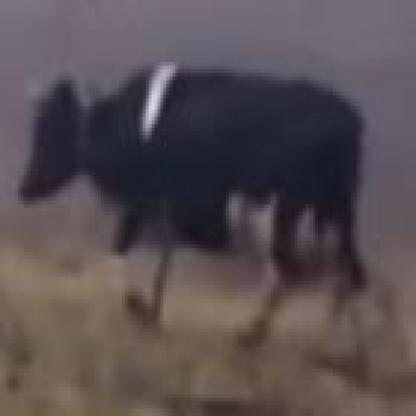cow: (21, 66, 368, 346)
